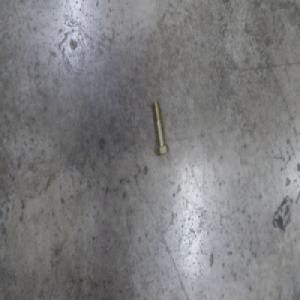Bolt: (151, 100, 168, 157)
